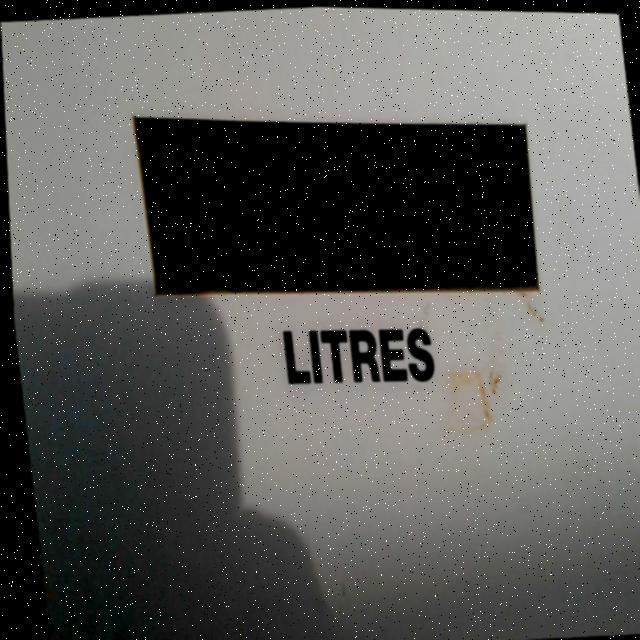.: (391, 249, 401, 266)
0: (388, 131, 445, 265), (452, 137, 505, 261)
1: (362, 153, 389, 271)
2: (269, 131, 328, 266), (211, 139, 265, 267)
